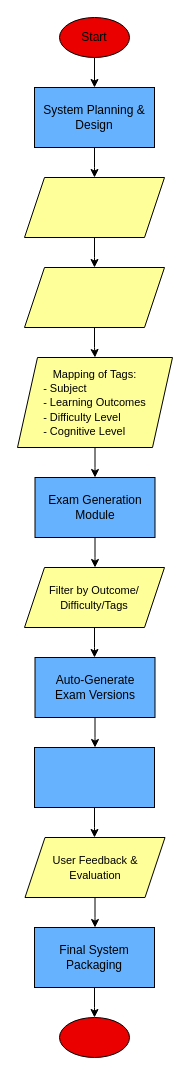
Some shapes in this 190 by 1075 pixel diagram are drawn without their labels. The shapes that lost their labels are listed below. From the top down, each one's centre as x and y in pixels, then its label:
(x=94, y=207): System Development (Backend & UI)
(x=94, y=297): Integrate Security
(x=94, y=777): User Testing
(x=94, y=1037): End
